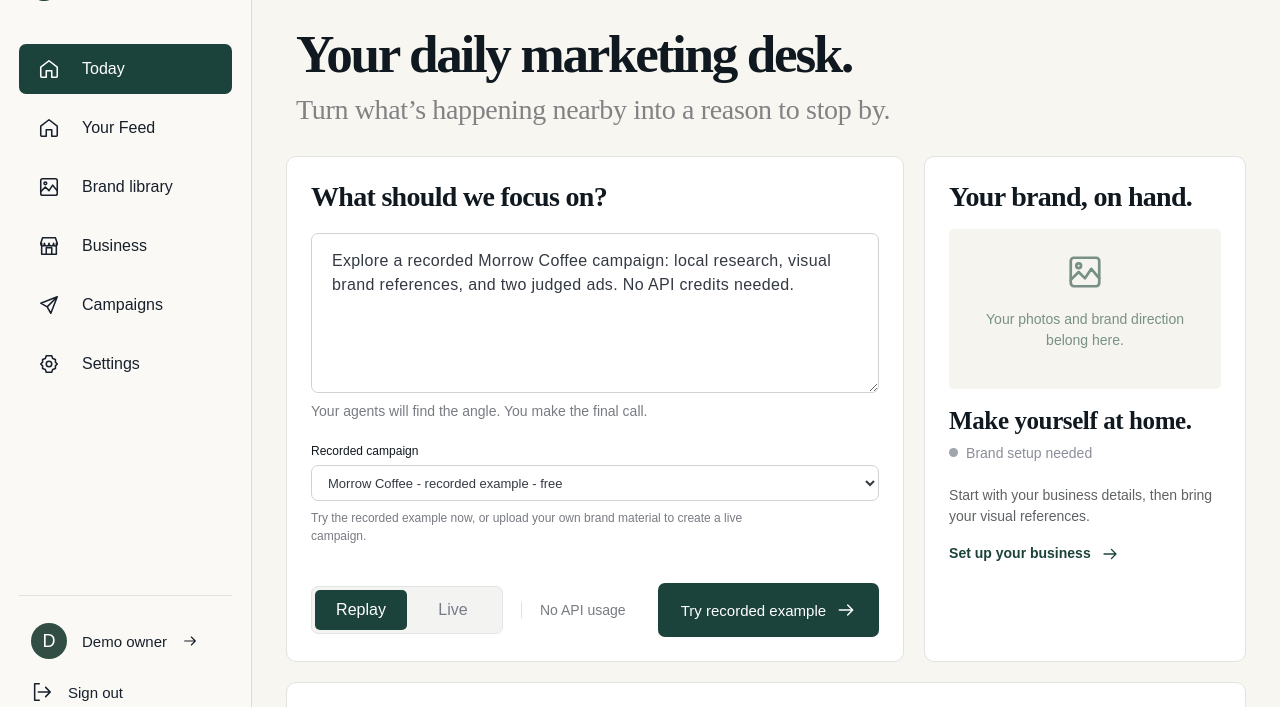
Test: marketing workspace › starts in replay and does not silently start paid work
Check: the heading "Your daily marketing desk." is shown, box [296,25,852,83]
Check: the button "Try recorded example" is enabled, box [658,583,879,637]
What coordinates should you click on to do the following:
click the button "Live"
I would click on:
 (453, 610)
Its box is [407,590,499,630].
(page scrolled)
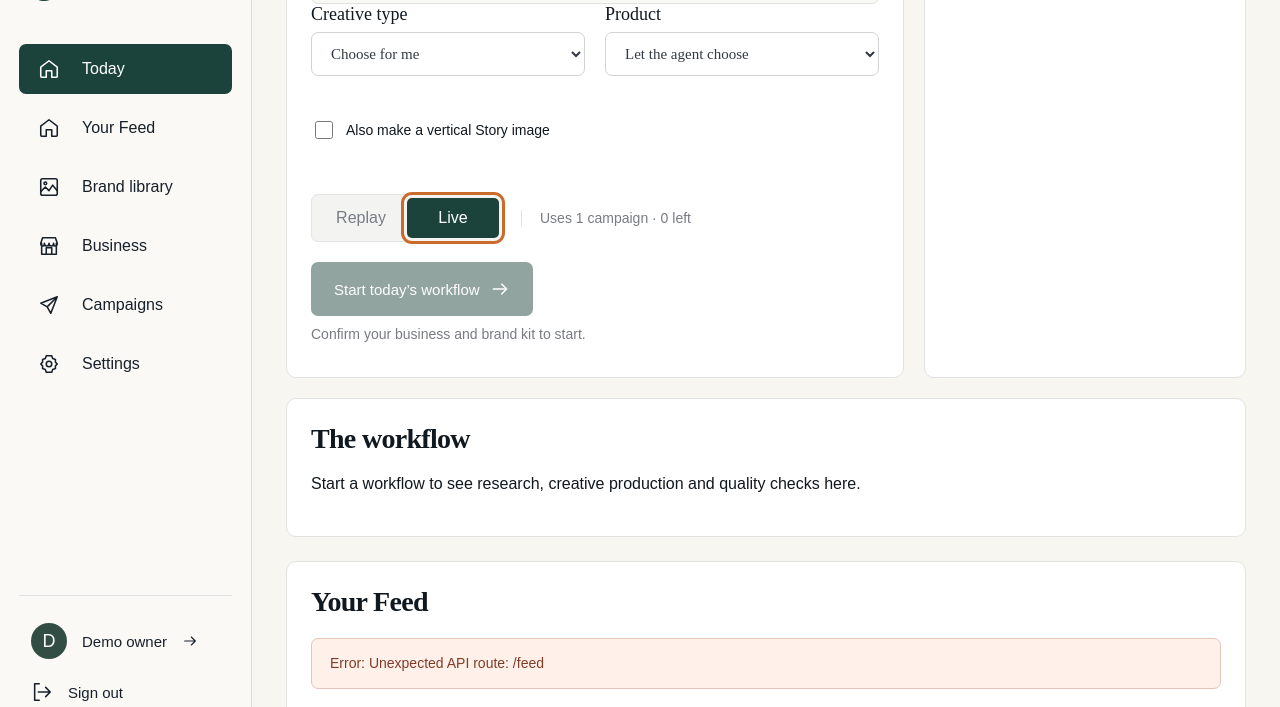
Check: the button "Start today’s workflow" is disabled, box [311,262,533,316]
Check: the text "Confirm your business and brand kit to start." is shown, box [311,326,586,342]
